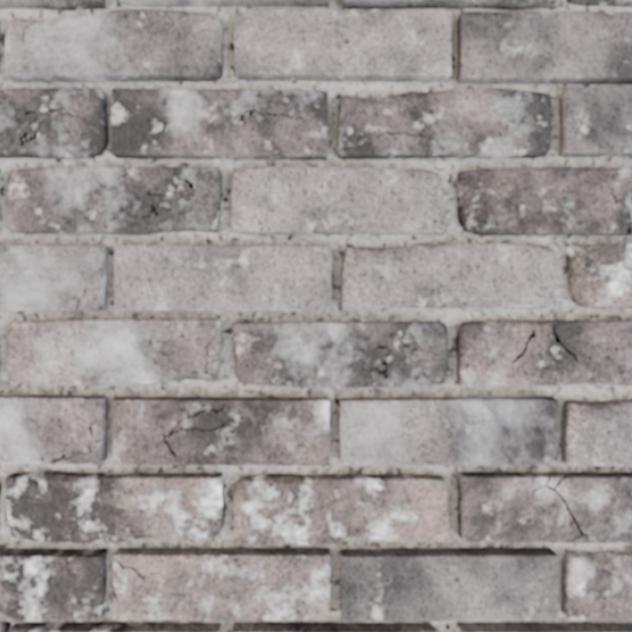brick: (231, 547, 556, 631), (235, 0, 554, 81), (0, 548, 219, 631), (4, 9, 221, 81), (113, 547, 328, 619), (5, 471, 223, 542), (111, 88, 326, 158), (234, 473, 447, 543), (338, 88, 550, 157), (339, 396, 556, 463), (112, 397, 328, 463), (5, 167, 219, 233), (231, 167, 444, 233), (114, 245, 329, 310), (233, 321, 446, 385), (7, 319, 220, 383), (342, 243, 554, 307), (458, 11, 631, 83), (458, 471, 631, 541), (456, 167, 631, 234), (455, 320, 631, 384), (0, 88, 107, 157), (0, 395, 107, 462), (0, 244, 107, 309), (561, 550, 631, 619), (560, 87, 631, 154), (561, 398, 631, 464), (567, 243, 631, 307), (455, 622, 631, 631), (0, 0, 104, 9), (119, 0, 327, 4), (568, 0, 631, 4), (0, 193, 2, 225), (0, 479, 1, 501), (0, 23, 1, 44), (0, 338, 1, 359)
crack: (530, 475, 588, 543), (50, 417, 102, 463), (608, 186, 631, 233), (191, 340, 219, 373), (112, 555, 145, 578), (74, 268, 86, 310), (19, 20, 35, 44), (111, 585, 133, 601), (0, 619, 10, 631), (96, 304, 102, 310)
